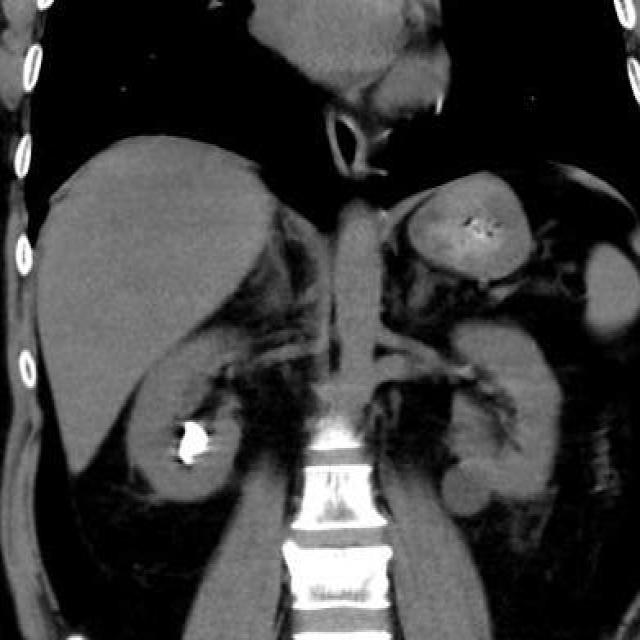Tas_Var: (172, 416, 214, 472)
